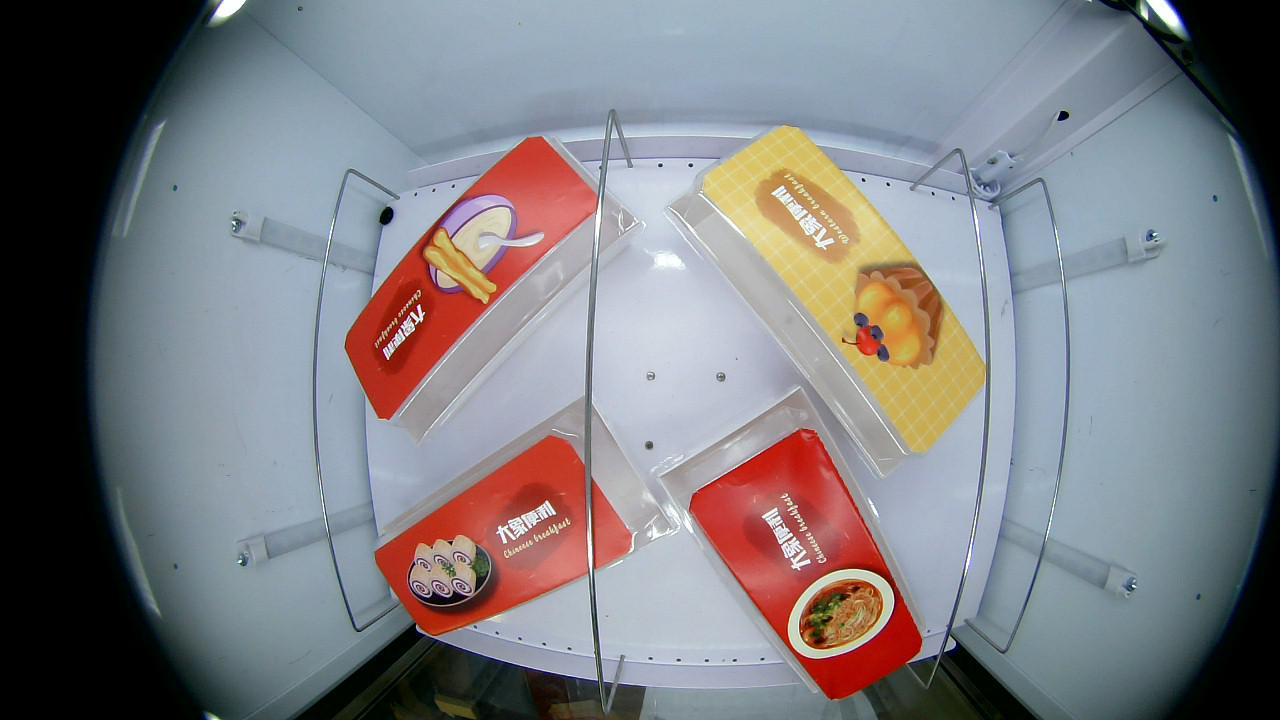goods: (423, 186, 531, 305), (840, 253, 944, 372), (782, 572, 902, 661), (402, 534, 497, 607)
